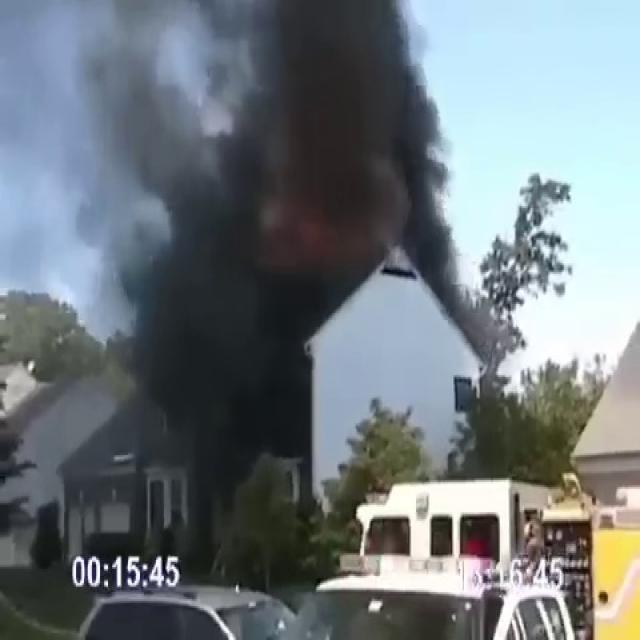Smoke: (64, 0, 470, 508)
